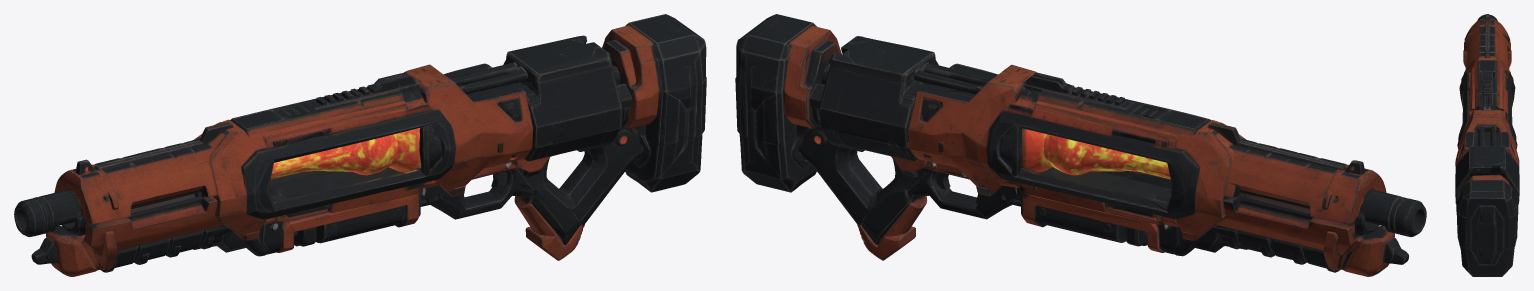
Rendered from PlasmaBlaster.glb.
3 views of the same model, side by side, from view 1: azimuth 30°, elevation 25°; view 2: azimuth 150°, elevation 25°; view 3: azimuth 270°, elevation 25° (orthographic). The views are drawn at different scales.
Size of the model in its own units: 1.9 by 0.5915 by 0.2698.
Materials: 1 (1 with a texture image).
